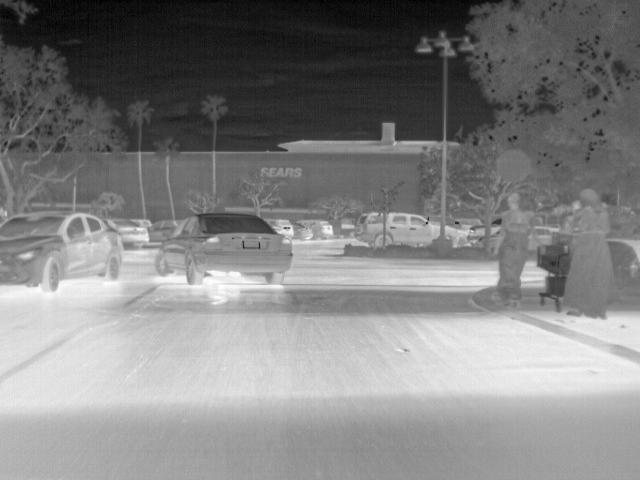car: (0, 211, 126, 292), (154, 213, 292, 285), (385, 211, 440, 244), (355, 209, 382, 246), (121, 218, 148, 250), (148, 219, 177, 242), (446, 224, 469, 248), (534, 227, 560, 245), (313, 219, 334, 240), (292, 220, 311, 239), (468, 223, 484, 245), (274, 218, 292, 234)
person: (568, 185, 612, 319), (493, 192, 533, 308)
